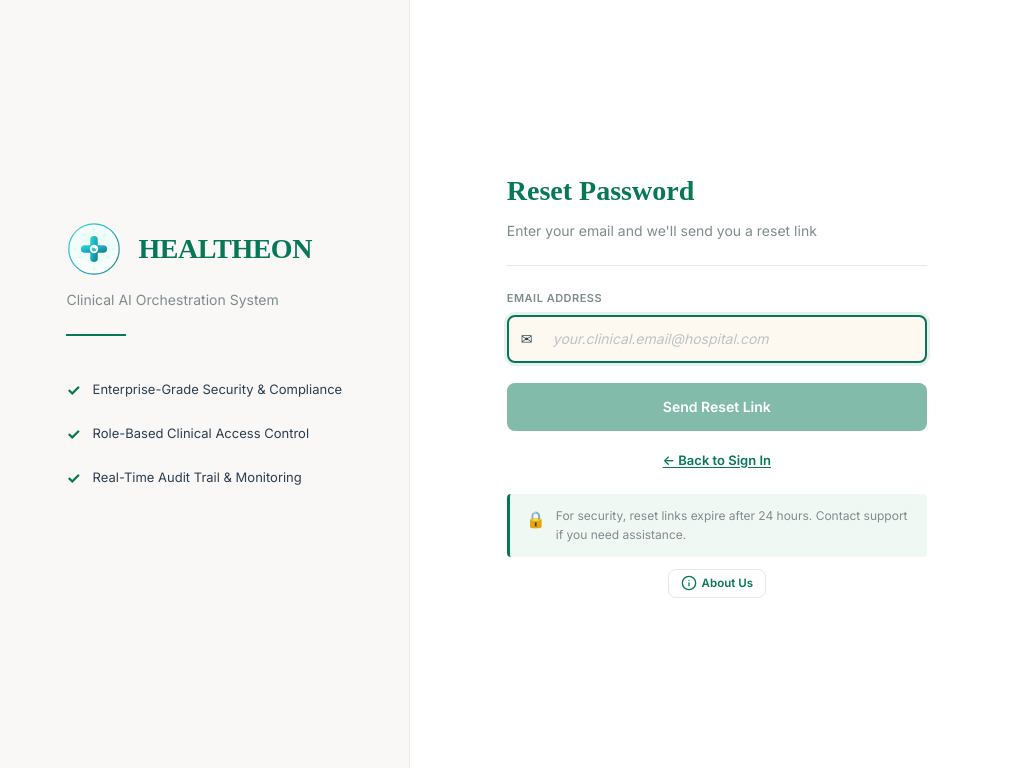
Test: ForgotPasswordPage › shows error on failure
Type "test@test.com" into the field with placeholder "your.clinical.email@hospital.com" at coordinates (717, 339), box [507, 315, 927, 363]
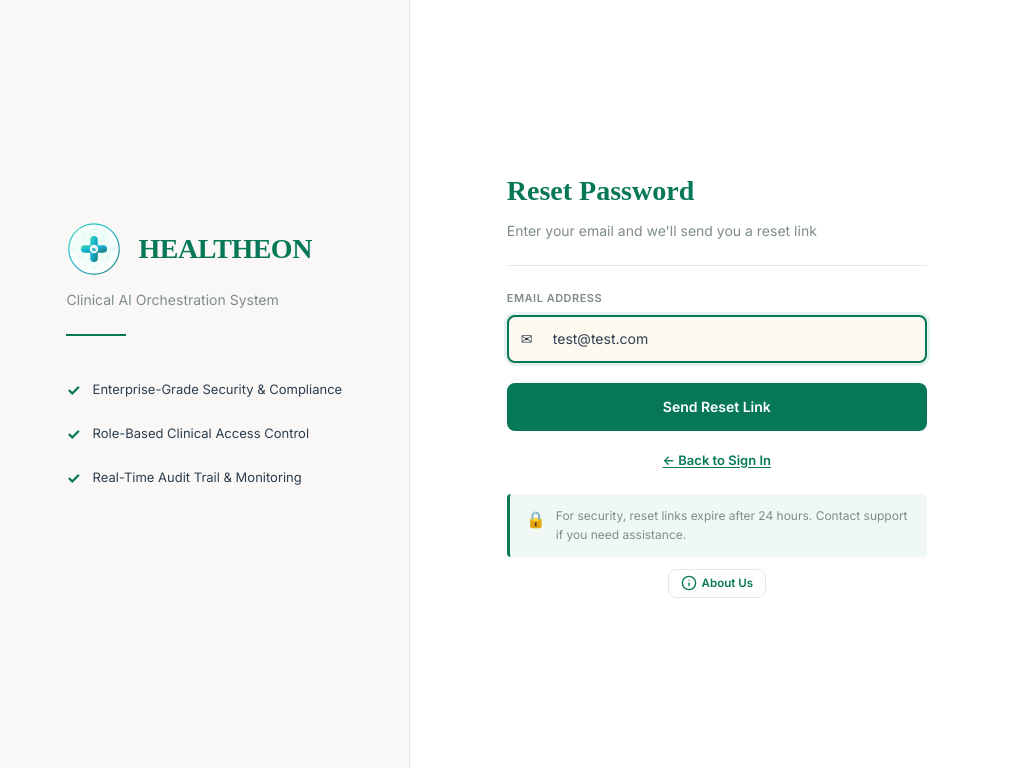
Click the button "Send Reset Link" at coordinates (717, 407), box [507, 383, 927, 431]
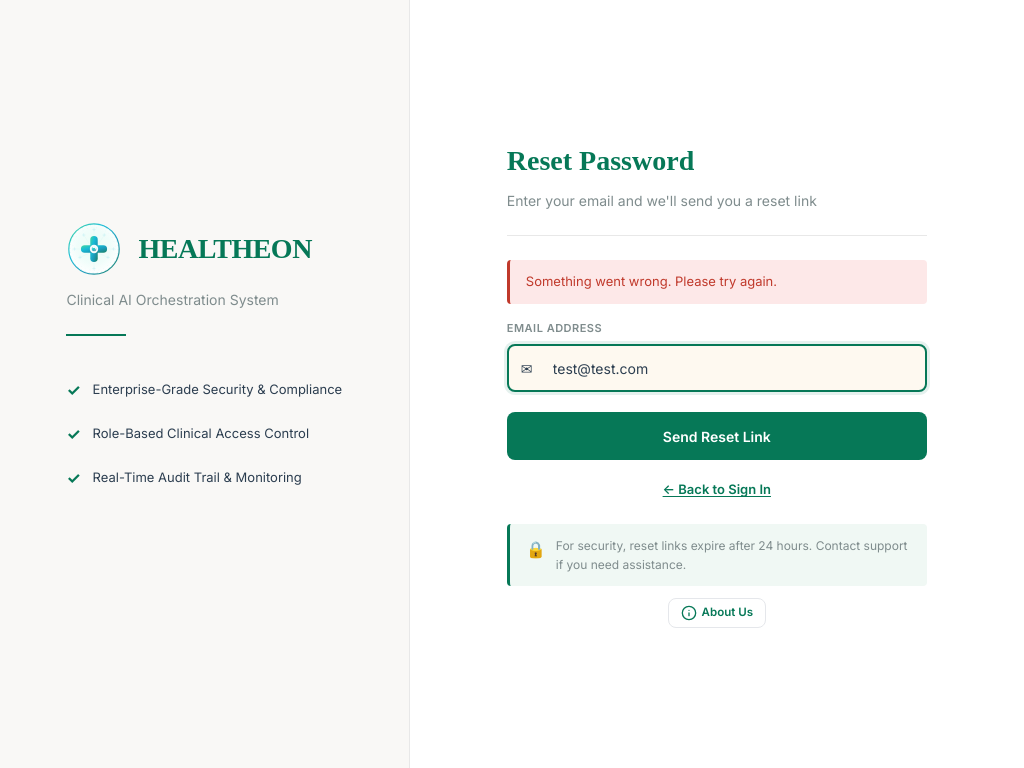
Result: the text "Something went wrong. Please try again." is shown at [507, 260, 927, 304]
